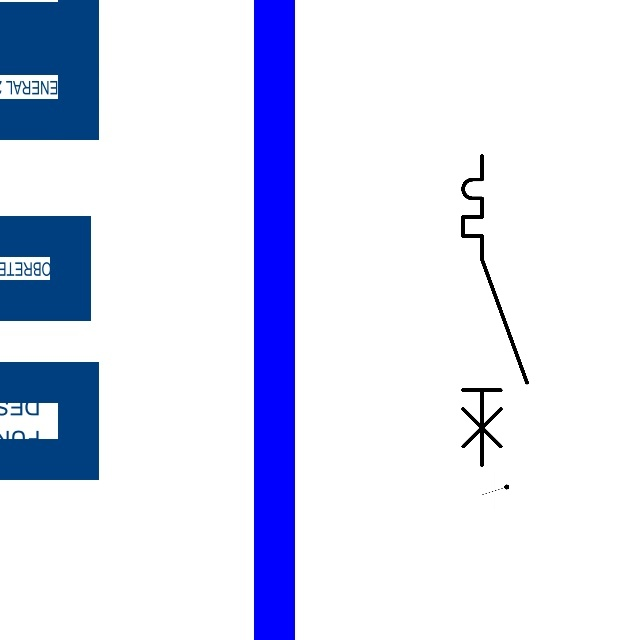interruptor_termomagnetico: (455, 148, 534, 473)
